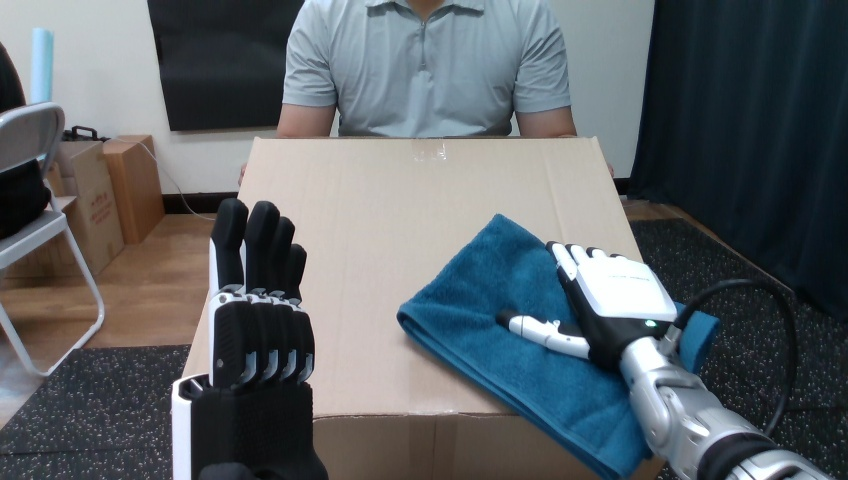left robot hand: (172, 198, 326, 479), (773, 285, 847, 478), (630, 219, 774, 308), (700, 288, 785, 427)
